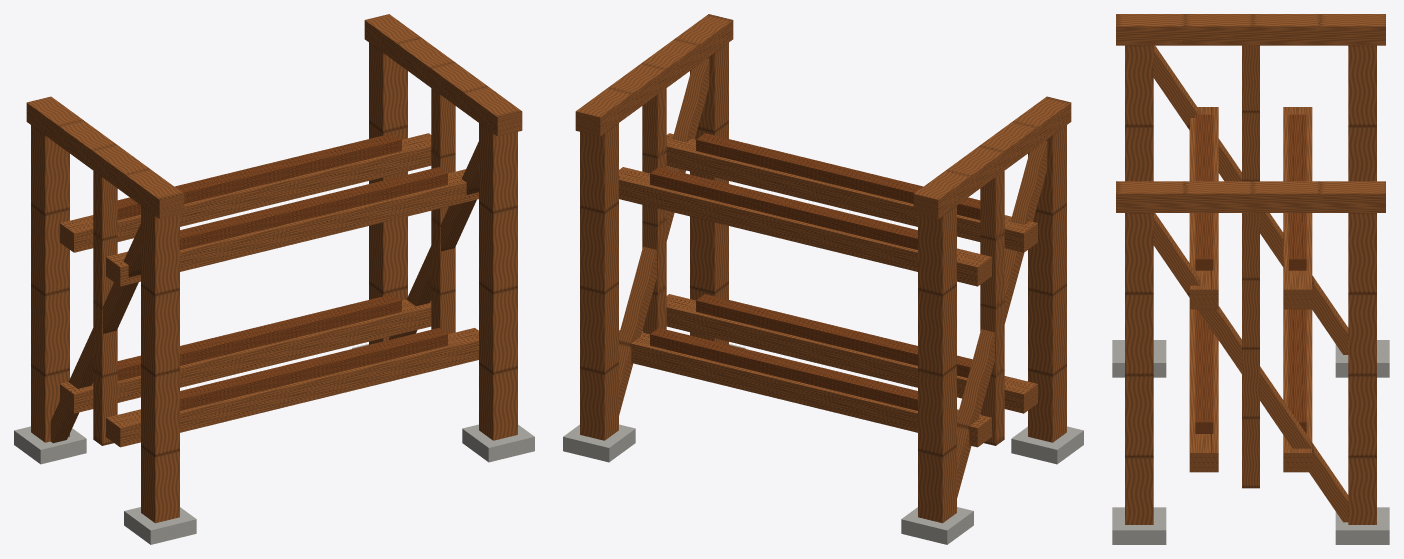
File: distillery-and-bonded-warehouse-cask-rack-low-ea638bb6__38692.glb
The picture shows the model from 3 angles, left to right: view 1: azimuth 30°, elevation 25°; view 2: azimuth 150°, elevation 25°; view 3: azimuth 270°, elevation 25°; orthographic projection.
Parts seen in each view (by area): view 1: cask-rack-low-timber, cask-rack-low-oak, cask-rack-low-stone; view 2: cask-rack-low-timber, cask-rack-low-oak, cask-rack-low-stone; view 3: cask-rack-low-timber, cask-rack-low-oak, cask-rack-low-stone.
Part boxes in pixels (x1,y1,x2,y2): cask-rack-low-timber: (26,14,522,523); cask-rack-low-oak: (117,133,447,410); cask-rack-low-stone: (14,344,534,544); cask-rack-low-timber: (575,14,1071,523); cask-rack-low-oak: (650,133,980,410); cask-rack-low-stone: (563,344,1083,544); cask-rack-low-timber: (1116,14,1385,524); cask-rack-low-oak: (1195,114,1306,433); cask-rack-low-stone: (1112,340,1389,544).
Size of the model in its own units: 2.5 by 2.14 by 1.54.
3 materials, 3 textured.
